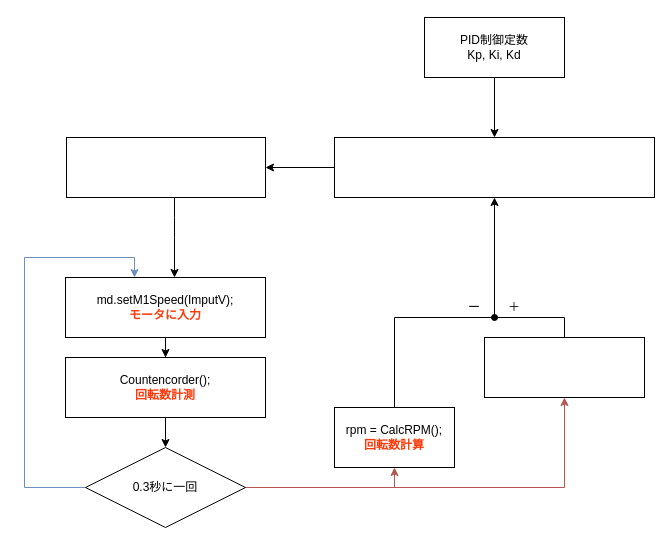
Some shapes in this 672 by 545 pixel diagram are drawn without their labels. The centre of each missing label's shape, as x and y in pixels:
"ImputV = CalcPID(targ_rpm,rpm); 電圧PIDで制御" goes at point (494, 167).
"targ_rpm = ReadSwitch(); 目標RPM計測" goes at point (564, 367).
"時間関数 ImputV*ImputMulti(t)+ImputAdd(t)" goes at point (166, 167).
